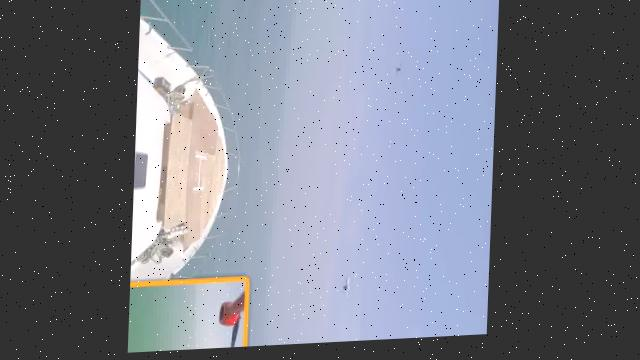drone: (388, 60, 410, 92), (342, 278, 358, 305)
